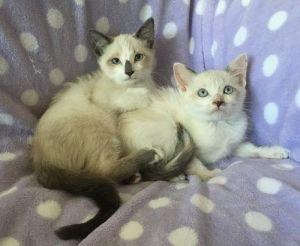siamese: (85, 16, 167, 91)
